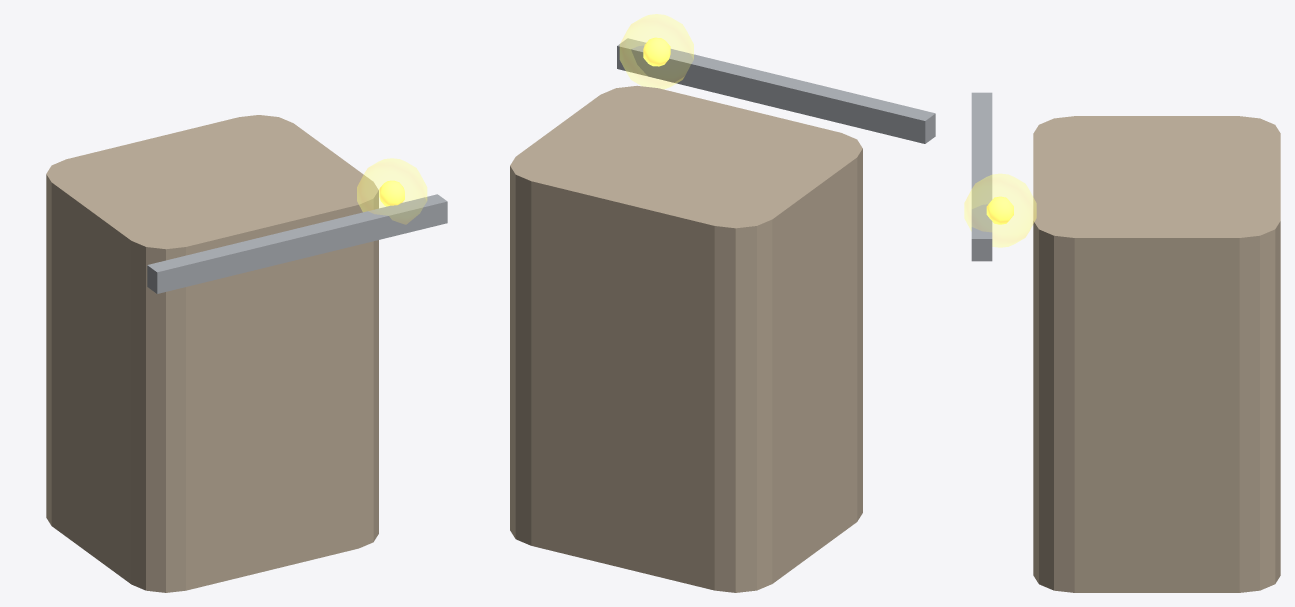
File: city_instrument_pedestal.glb
3 views of the same model, side by side, from view 1: azimuth 30°, elevation 25°; view 2: azimuth 150°, elevation 25°; view 3: azimuth 270°, elevation 25° (orthographic). The views are drawn at different scales.
Visible parts, largest first — view 1: CityInstrumentPedestal_Pedestal, CityInstrumentPedestal_Trim, CityInstrumentPedestal_Light_signal_Halo, CityInstrumentPedestal_Light_signal_Core; view 2: CityInstrumentPedestal_Pedestal, CityInstrumentPedestal_Trim, CityInstrumentPedestal_Light_signal_Halo, CityInstrumentPedestal_Light_signal_Core; view 3: CityInstrumentPedestal_Pedestal, CityInstrumentPedestal_Light_signal_Halo, CityInstrumentPedestal_Trim, CityInstrumentPedestal_Light_signal_Core.
Boxes of the visible parts, x1,y1,x2,y2 form: CityInstrumentPedestal_Pedestal: (46,115,378,592); CityInstrumentPedestal_Trim: (147,194,447,293); CityInstrumentPedestal_Light_signal_Halo: (357,158,426,223); CityInstrumentPedestal_Light_signal_Core: (379,180,404,206); CityInstrumentPedestal_Pedestal: (510,85,862,592); CityInstrumentPedestal_Trim: (617,38,935,143); CityInstrumentPedestal_Light_signal_Halo: (620,14,693,88); CityInstrumentPedestal_Light_signal_Core: (643,37,670,66); CityInstrumentPedestal_Pedestal: (1033,116,1280,592); CityInstrumentPedestal_Light_signal_Halo: (964,174,1036,247); CityInstrumentPedestal_Trim: (971,92,992,261); CityInstrumentPedestal_Light_signal_Core: (986,196,1013,224).
Size of the model in its own units: 0.84 by 1.2 by 0.7677.
